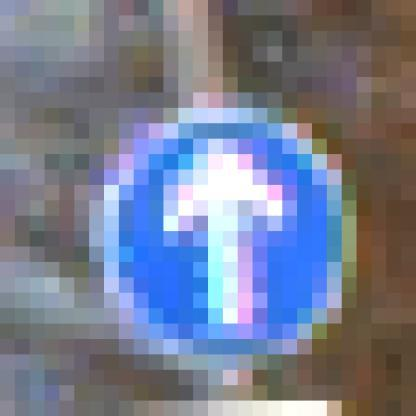straight: (80, 84, 376, 392)
